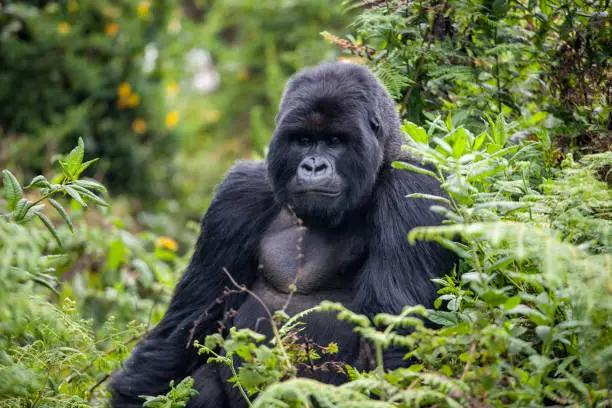goriile_montagne: (117, 43, 473, 408)
